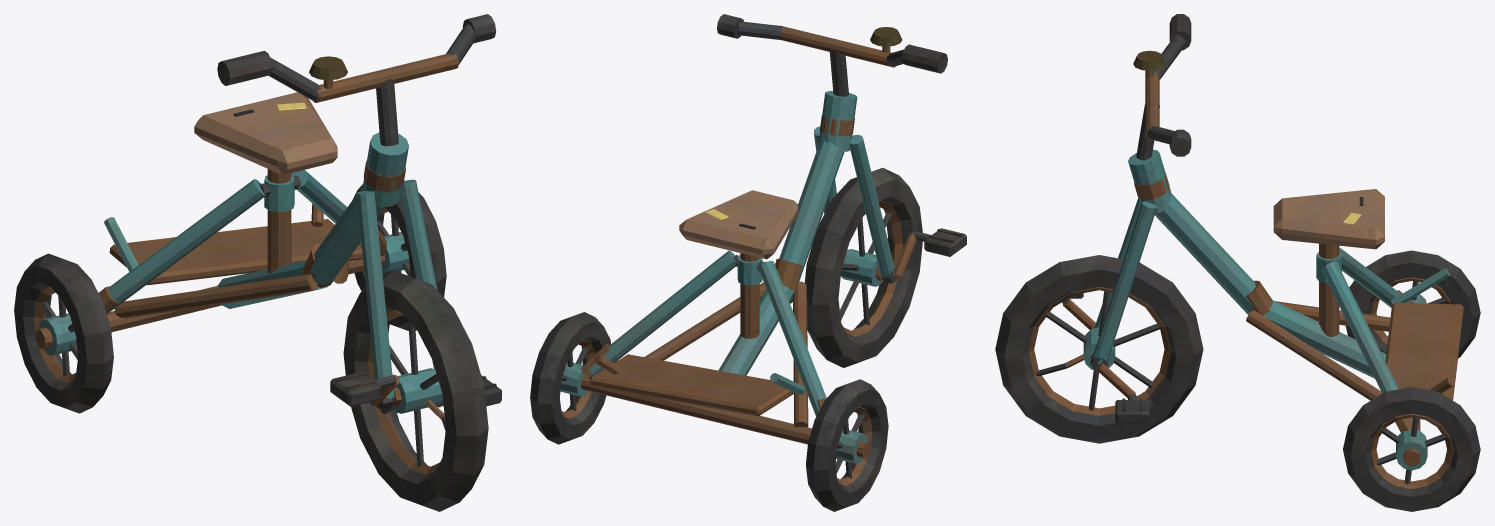
File: V05_kid_tricycle_v2.glb
3 renders of one model, left to right at view 1: azimuth 30°, elevation 25°; view 2: azimuth 150°, elevation 25°; view 3: azimuth 270°, elevation 25°, orthographic. The views are drawn at different scales.
Parts seen in each view (by area): view 1: Front cracked solid tire; view 2: Front cracked solid tire; view 3: Front cracked solid tire.
Part boxes in pixels (bbox=[...]): Front cracked solid tire: bbox=[14, 14, 501, 511]; Front cracked solid tire: bbox=[530, 14, 966, 511]; Front cracked solid tire: bbox=[995, 14, 1480, 511].
Size of the model in its own units: 0.5322 by 0.5895 by 0.7.
8 materials, 8 textured.
